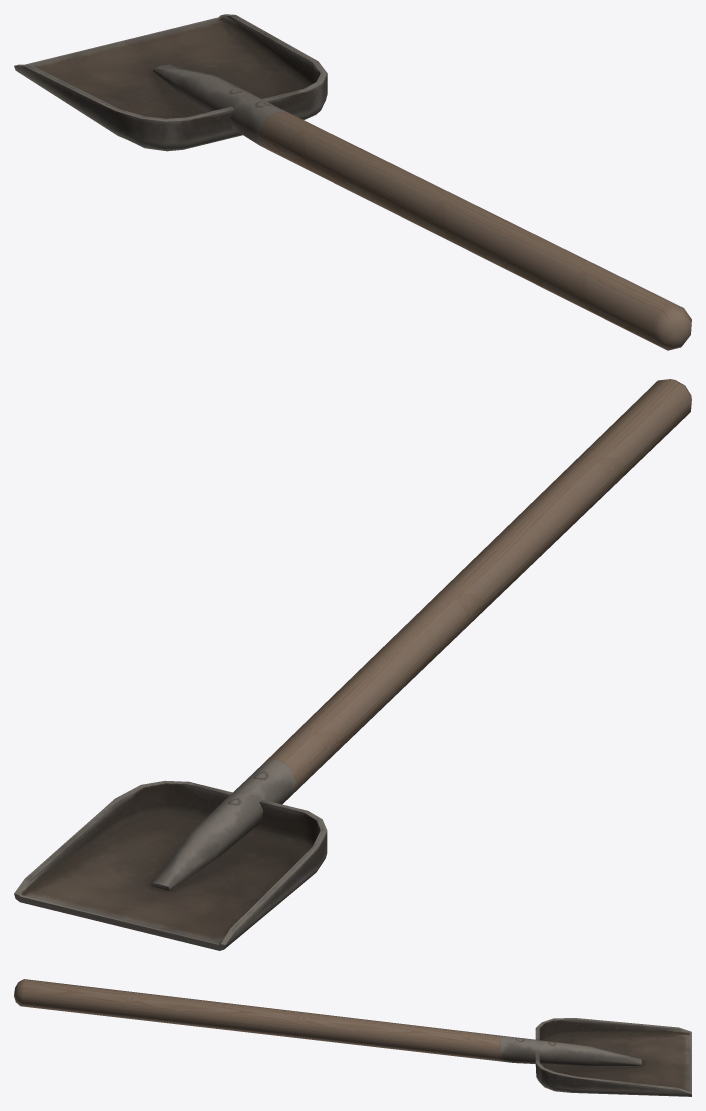
Rendered from SM_shovel.glb.
The picture shows the model from 3 angles, top to bottom: view 1: azimuth 30°, elevation 25°; view 2: azimuth 150°, elevation 25°; view 3: azimuth 270°, elevation 25°; orthographic projection. The views are drawn at different scales.
Visible parts, largest first — view 1: SM_shovel; view 2: SM_shovel; view 3: SM_shovel.
Part boxes in pixels (<box>): SM_shovel: <box>14,14,691,350</box>; SM_shovel: <box>14,379,691,950</box>; SM_shovel: <box>14,979,691,1096</box>.
Size of the model in its own units: 0.3908 by 0.2552 by 1.79.
1 material, 1 textured.
